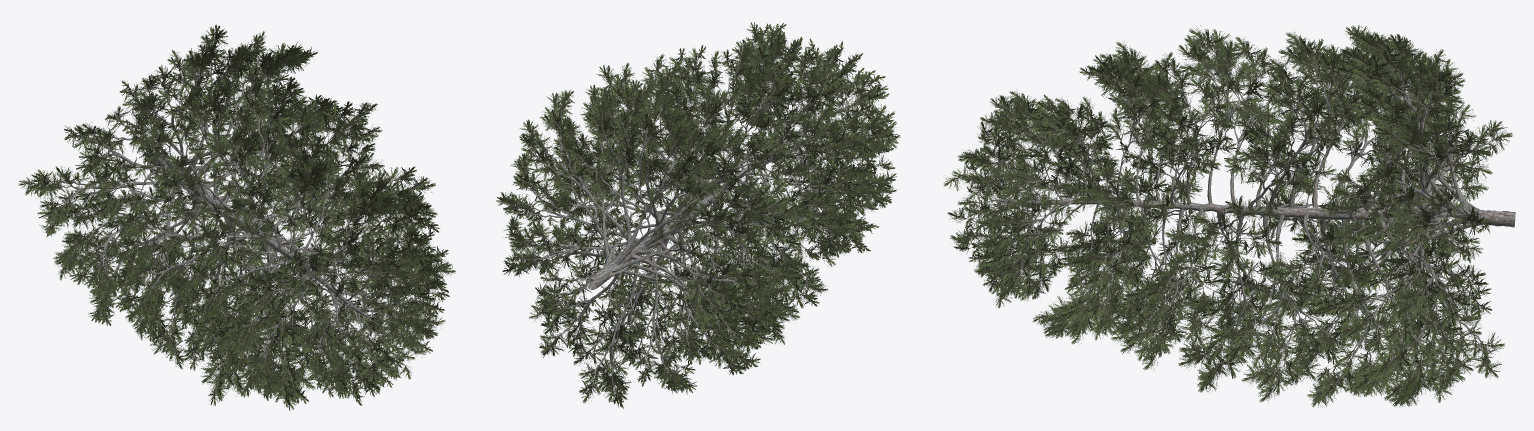
The picture shows the model from 3 angles, left to right: view 1: azimuth 30°, elevation 25°; view 2: azimuth 150°, elevation 25°; view 3: azimuth 270°, elevation 25°; orthographic projection. The views are drawn at different scales.
Visible parts, largest first — view 1: BL12y; view 2: BL12y; view 3: BL12y.
Boxes of the visible parts, <box> form: BL12y: <box>18,24,455,410</box>; BL12y: <box>496,22,900,408</box>; BL12y: <box>943,25,1515,407</box>.
Size of the model in its own units: 5.12 by 5.09 by 7.14.
2 materials, 2 textured.
